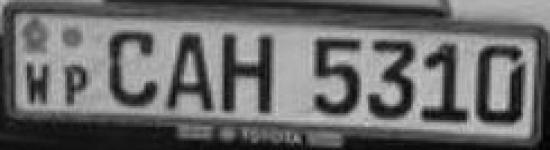0: (473, 42, 530, 129)
1: (422, 40, 471, 127)
3: (365, 34, 422, 125)
5: (304, 30, 363, 121)
A: (165, 30, 220, 116)
C: (105, 27, 161, 108)
H: (222, 30, 280, 120)
P: (60, 56, 96, 113)
W: (16, 49, 57, 109)
